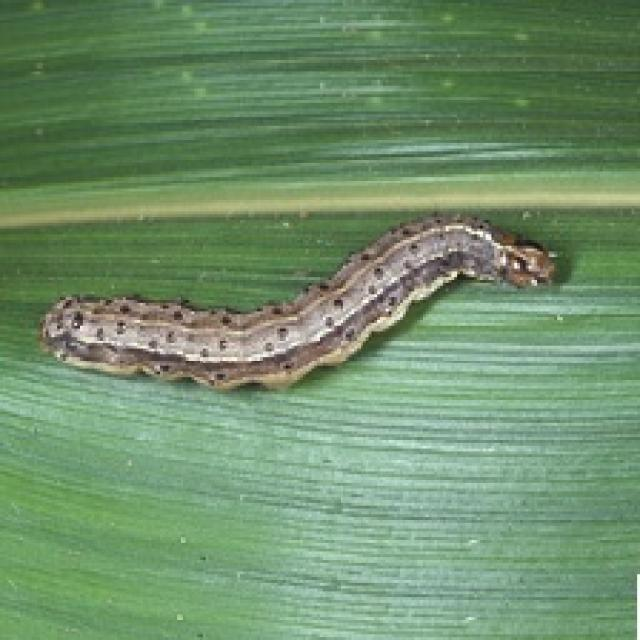Fall-armyworm: (40, 216, 564, 396)
